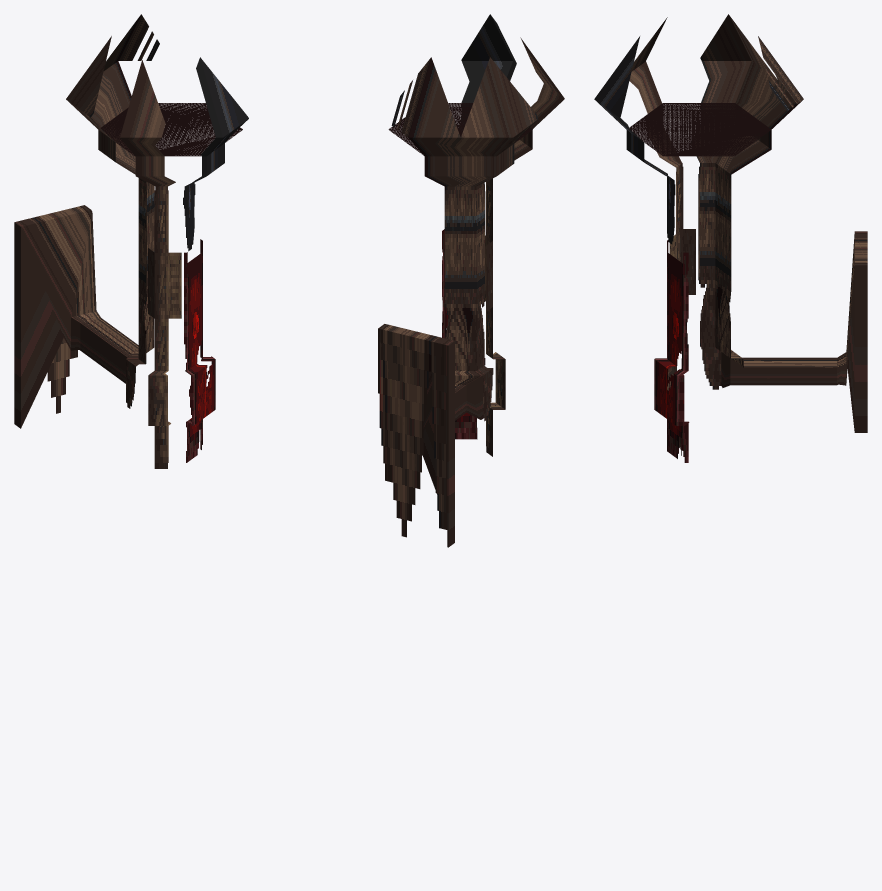
File: torch.glb
3 renders of one model, left to right at view 1: azimuth 30°, elevation 25°; view 2: azimuth 150°, elevation 25°; view 3: azimuth 270°, elevation 25°, orthographic.
Parts seen in each view (by area): view 1: torch; view 2: torch; view 3: torch.
Part boxes in pixels (x1,y1,x2,y2): torch: (14,14,248,468); torch: (378,14,564,547); torch: (594,14,867,462).
Size of the model in its own units: 0.2349 by 1.2 by 0.3536.
1 material, 1 textured.
